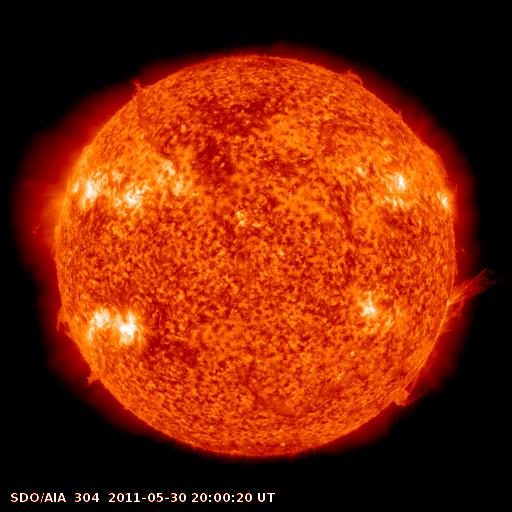prominence: (429, 240, 502, 348), (385, 369, 443, 416), (414, 133, 457, 184), (41, 300, 84, 345), (73, 360, 111, 400), (121, 69, 157, 107), (334, 57, 369, 93)
